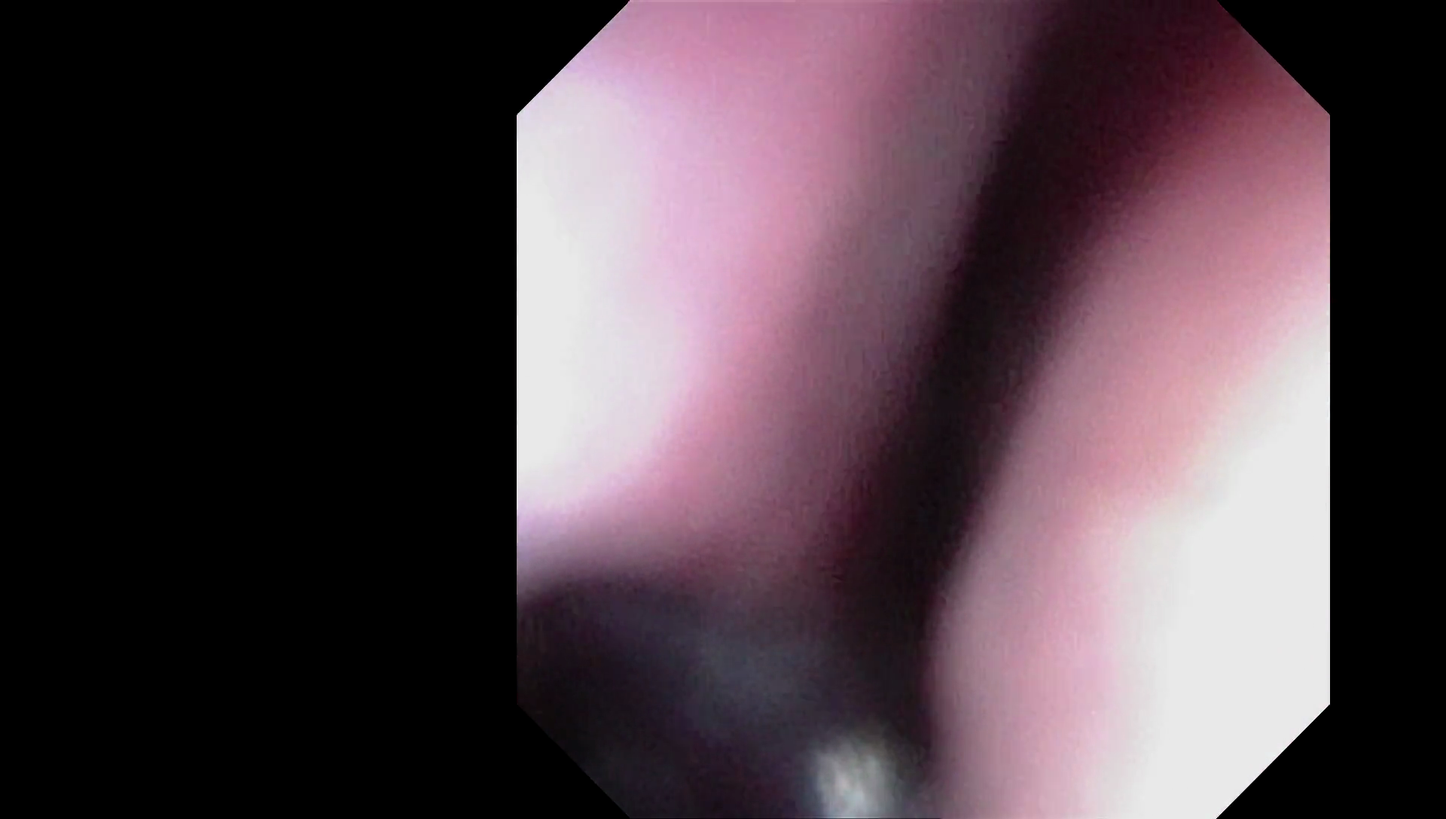close_wall: (1011, 257, 1323, 803), (523, 114, 775, 570)
next: (812, 322, 999, 769), (521, 497, 794, 788), (949, 63, 1133, 404)
